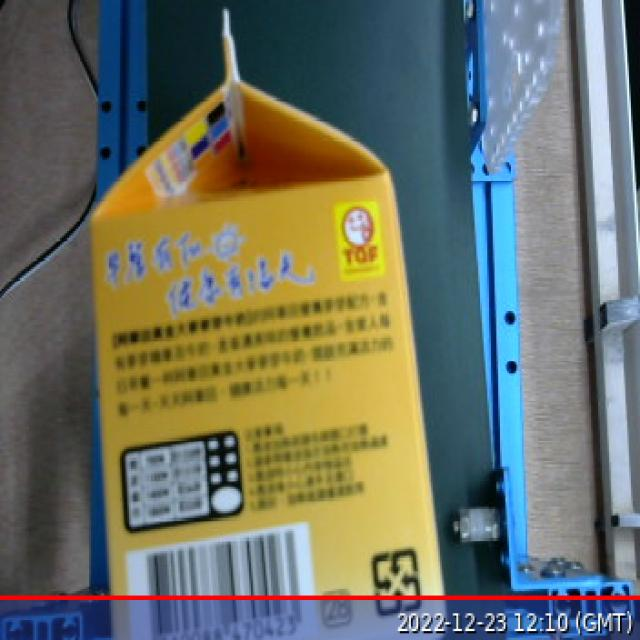non_white_jug: (71, 4, 457, 640)
